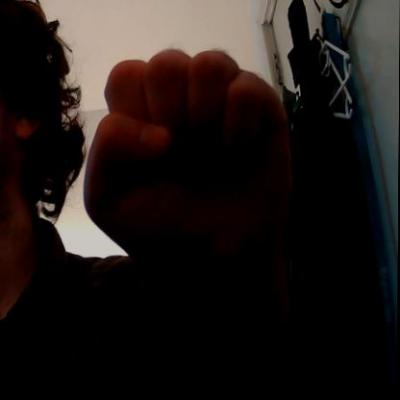hand: (83, 46, 300, 294)
